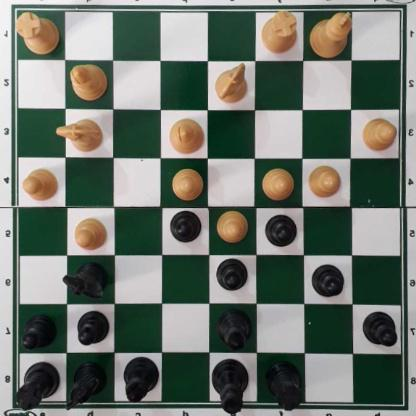black-bishop: (122, 357, 159, 405), (218, 310, 251, 352)
black-king: (212, 357, 248, 415)
black-knight: (65, 365, 106, 410), (62, 263, 108, 301)
black-pawn: (18, 315, 57, 351), (75, 311, 111, 348), (362, 312, 397, 349), (311, 265, 345, 300), (215, 259, 249, 293), (265, 215, 297, 250), (170, 211, 202, 244)
black-rook: (14, 363, 59, 415), (265, 363, 303, 411)
white-bishop: (70, 62, 107, 104), (169, 118, 204, 155)
white-king: (309, 11, 352, 60)
white-knight: (55, 118, 104, 153), (214, 64, 250, 105)
white-pawn: (360, 117, 397, 153), (307, 165, 341, 201), (22, 169, 58, 203), (74, 217, 108, 251), (214, 212, 250, 244), (262, 168, 295, 202), (172, 168, 204, 202)
white-rook: (16, 14, 61, 57), (261, 12, 299, 53)
